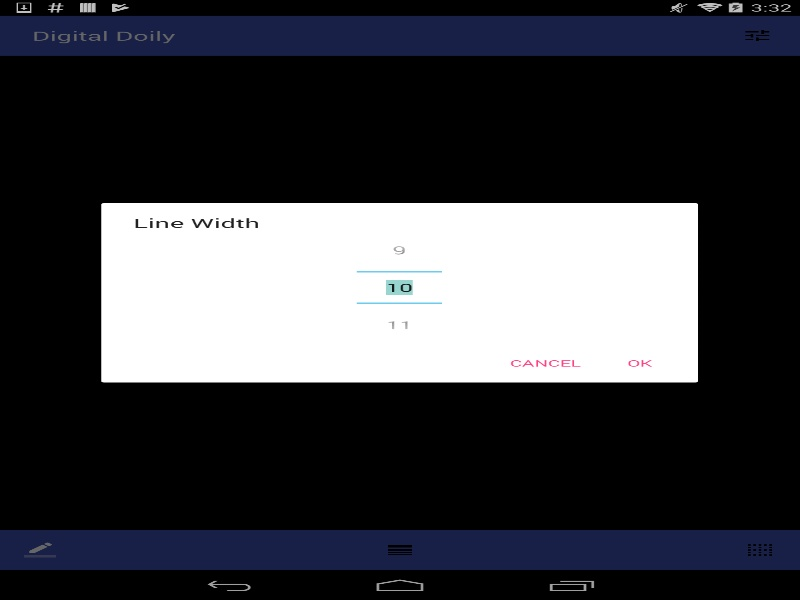Button: (356, 231, 442, 272), (356, 302, 442, 343), (494, 346, 596, 380), (596, 346, 682, 380)
Input: (356, 272, 442, 302)
